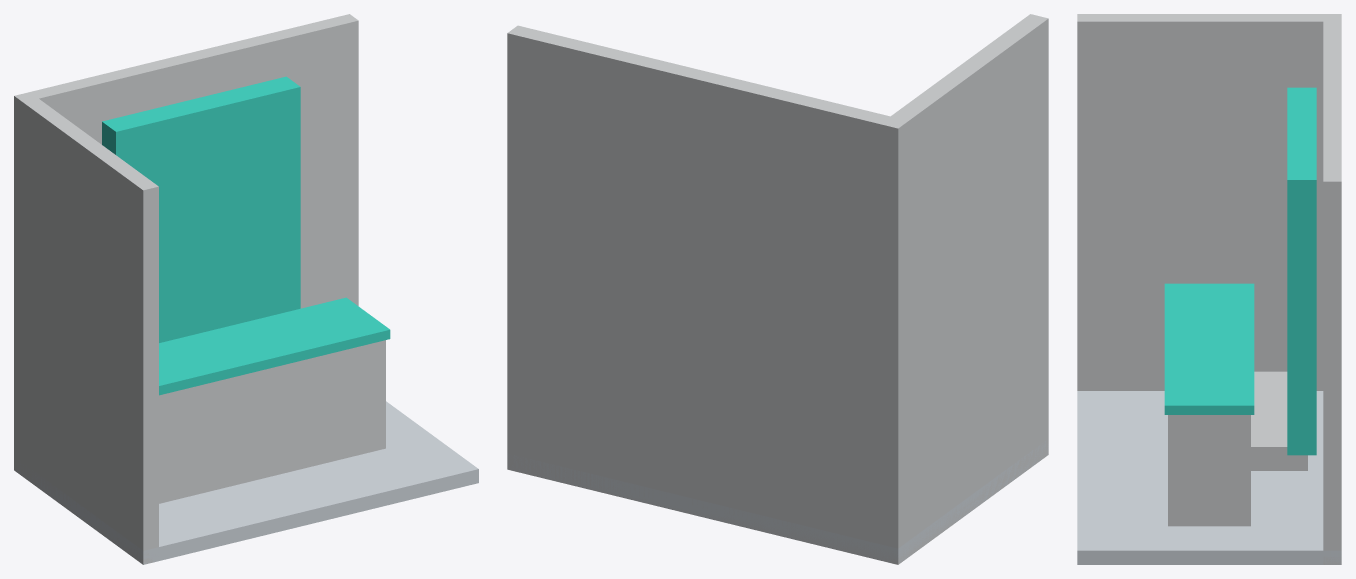
3 views of the same model, side by side, from view 1: azimuth 30°, elevation 25°; view 2: azimuth 150°, elevation 25°; view 3: azimuth 270°, elevation 25° (orthographic). The views are drawn at different scales.
Parts seen in each view (by area): view 1: Exhibition Booth Concept; view 2: Exhibition Booth Concept; view 3: Exhibition Booth Concept.
Part boxes in pixels (x1,y1,x2,y2): Exhibition Booth Concept: (14, 14, 478, 564); Exhibition Booth Concept: (507, 14, 1048, 564); Exhibition Booth Concept: (1077, 14, 1341, 564).
Bounding box in the file's own units: 3 × 3.2 × 2.
